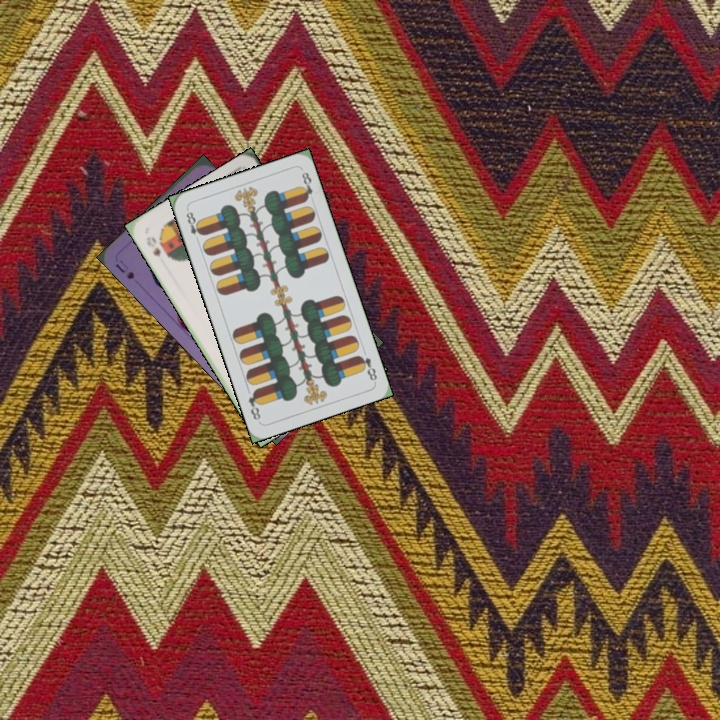E8: (182, 206, 206, 245), (354, 351, 380, 383)
SO: (142, 232, 163, 259)
SU: (112, 255, 137, 282)
